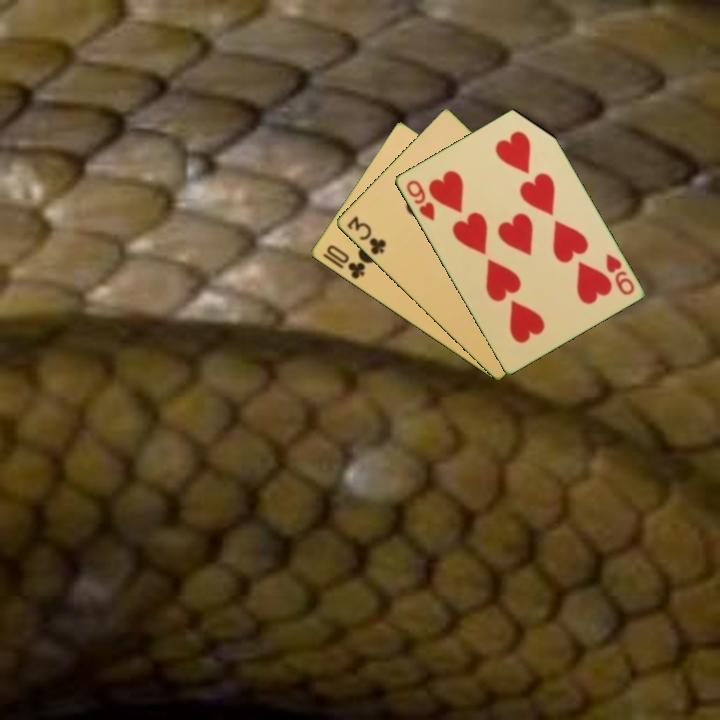10c: (322, 241, 368, 282)
3c: (343, 212, 389, 258)
9h: (602, 250, 637, 298), (402, 176, 437, 223)
